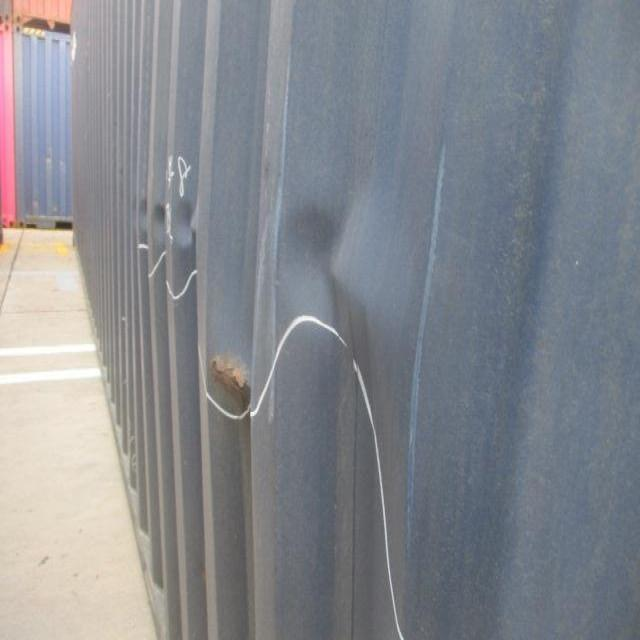dent: (272, 162, 452, 392), (196, 325, 283, 477), (129, 186, 215, 281)
